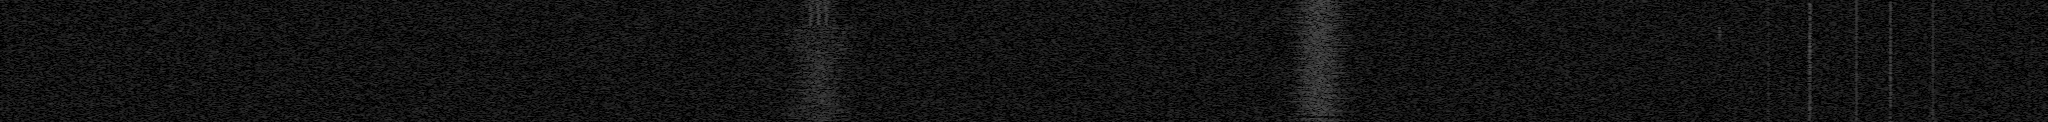wv_am: (1851, 0, 1863, 122), (1928, 0, 1937, 122), (1765, 0, 1771, 122)
wv_lsb: (1805, 3, 1814, 122), (1889, 1, 1893, 108), (1878, 113, 1904, 122)
wv_usb: (1718, 18, 1723, 58), (1718, 67, 1721, 87), (1718, 5, 1721, 18), (1718, 101, 1721, 108), (1718, 94, 1721, 100), (1718, 115, 1721, 119), (1718, 59, 1721, 63), (1718, 110, 1721, 113), (1718, 88, 1721, 91)
wv_wbfm: (775, 0, 863, 122), (1280, 0, 1362, 115), (1285, 118, 1353, 122)
